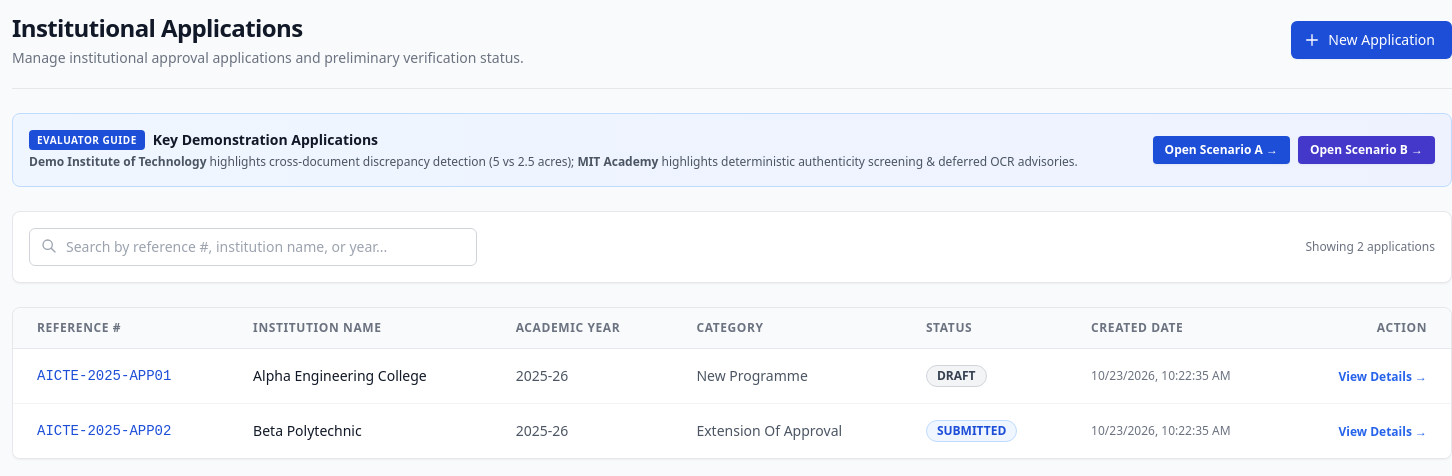
Application Pages › renders application list page with applications and filters them
This screenshot has width=1452, height=476.
expect the text "Alpha Engineering College" is shown: met, box x1=229 y1=348 x2=492 y2=404
expect the text "Beta Polytechnic" is shown: met, box x1=229 y1=404 x2=492 y2=458
# Test filter search
Type "Alpha" into the field with placeholder "Search by reference #, institution name, or year...".
click(253, 247); type("Alpha")  # box x1=29 y1=228 x2=477 y2=266
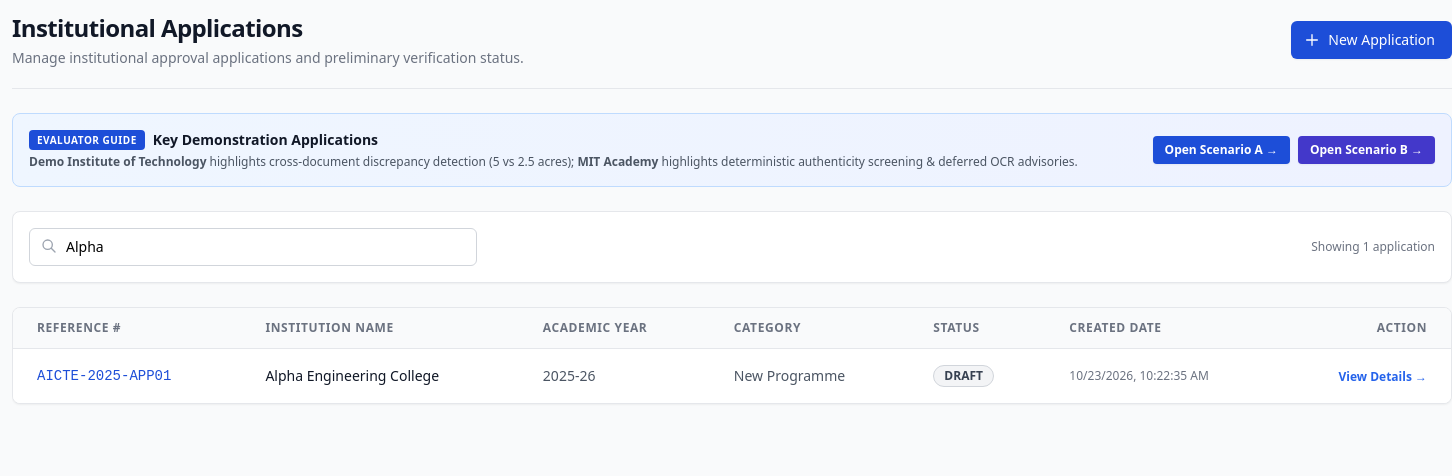
expect the text "Alpha Engineering College" is shown: met, box x1=241 y1=348 x2=519 y2=403
expect the text "Beta Polytechnic" is gone: met
